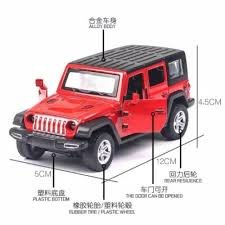mobil: (16, 24, 189, 160)
